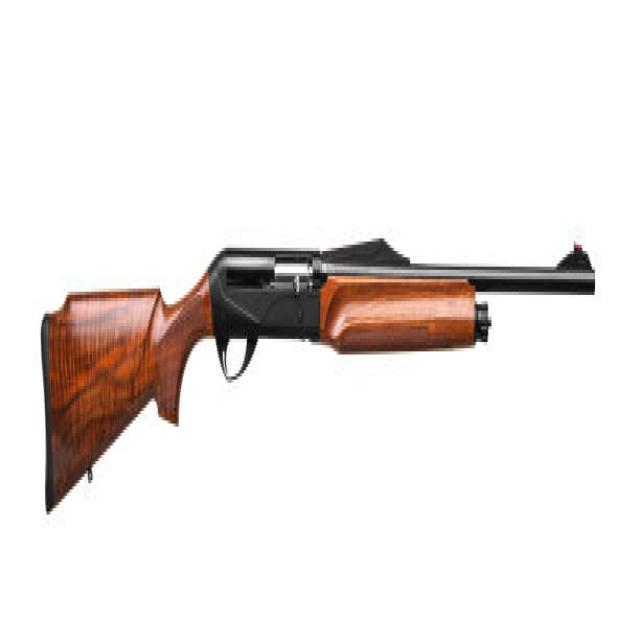rifle: (39, 232, 601, 526)
